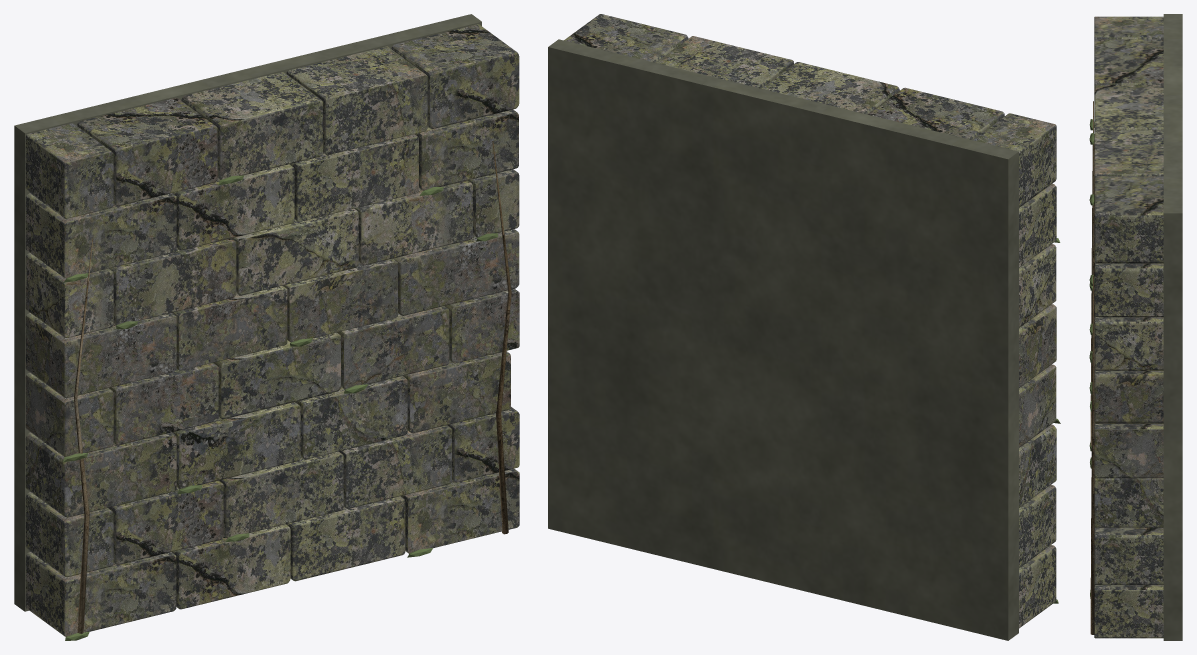
The model's file is v6_wall_a.glb.
3 renders of one model, left to right at view 1: azimuth 30°, elevation 25°; view 2: azimuth 150°, elevation 25°; view 3: azimuth 270°, elevation 25°, orthographic. The views are drawn at different scales.
Parts seen in each view (by area): view 1: sacred_weathered_stone_surface, sacred_earth_mortar_surface, sacred_root_bark_surface, sacred_velvet_moss_surface; view 2: sacred_earth_mortar_surface, sacred_weathered_stone_surface; view 3: sacred_weathered_stone_surface, sacred_earth_mortar_surface, sacred_root_bark_surface, sacred_velvet_moss_surface.
Part boxes in pixels (x1=…): sacred_weathered_stone_surface: x1=25, y1=24, x2=519, y2=636; sacred_earth_mortar_surface: x1=14, y1=14, x2=481, y2=611; sacred_root_bark_surface: x1=74, y1=141, x2=511, y2=633; sacred_velvet_moss_surface: x1=63, y1=175, x2=498, y2=640; sacred_earth_mortar_surface: x1=548, y1=39, x2=1018, y2=640; sacred_weathered_stone_surface: x1=564, y1=14, x2=1056, y2=628; sacred_weathered_stone_surface: x1=1094, y1=16, x2=1163, y2=638; sacred_earth_mortar_surface: x1=1163, y1=14, x2=1182, y2=640; sacred_root_bark_surface: x1=1090, y1=101, x2=1094, y2=634; sacred_velvet_moss_surface: x1=1089, y1=119, x2=1094, y2=598.
Bounding box in the file's own units: 4.02 × 4.02 × 0.789.
4 materials, 4 textured.
